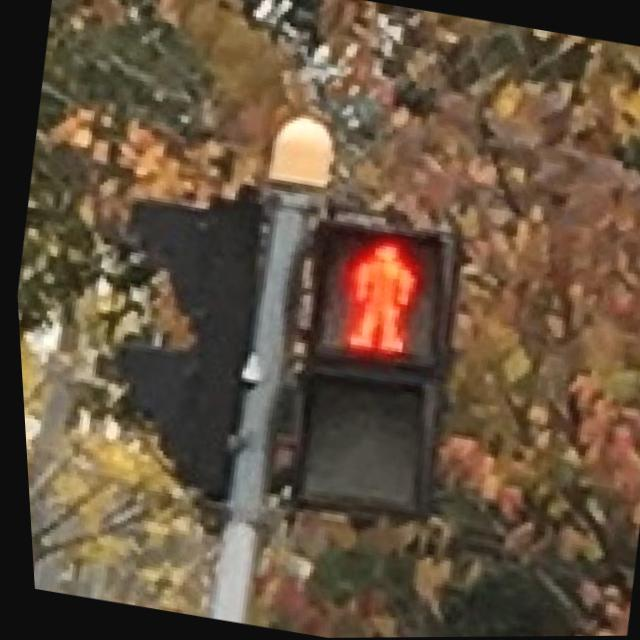red_light: (307, 219, 449, 369)
